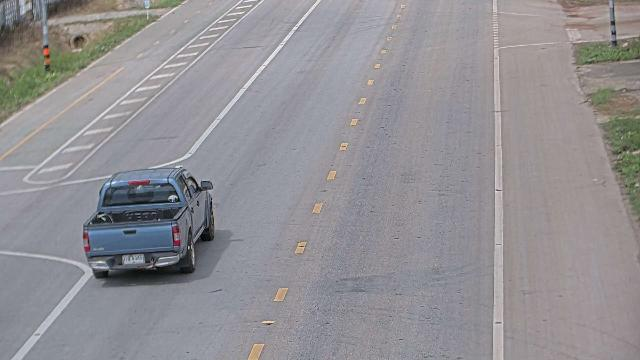pickup-truck: (81, 165, 215, 279)
